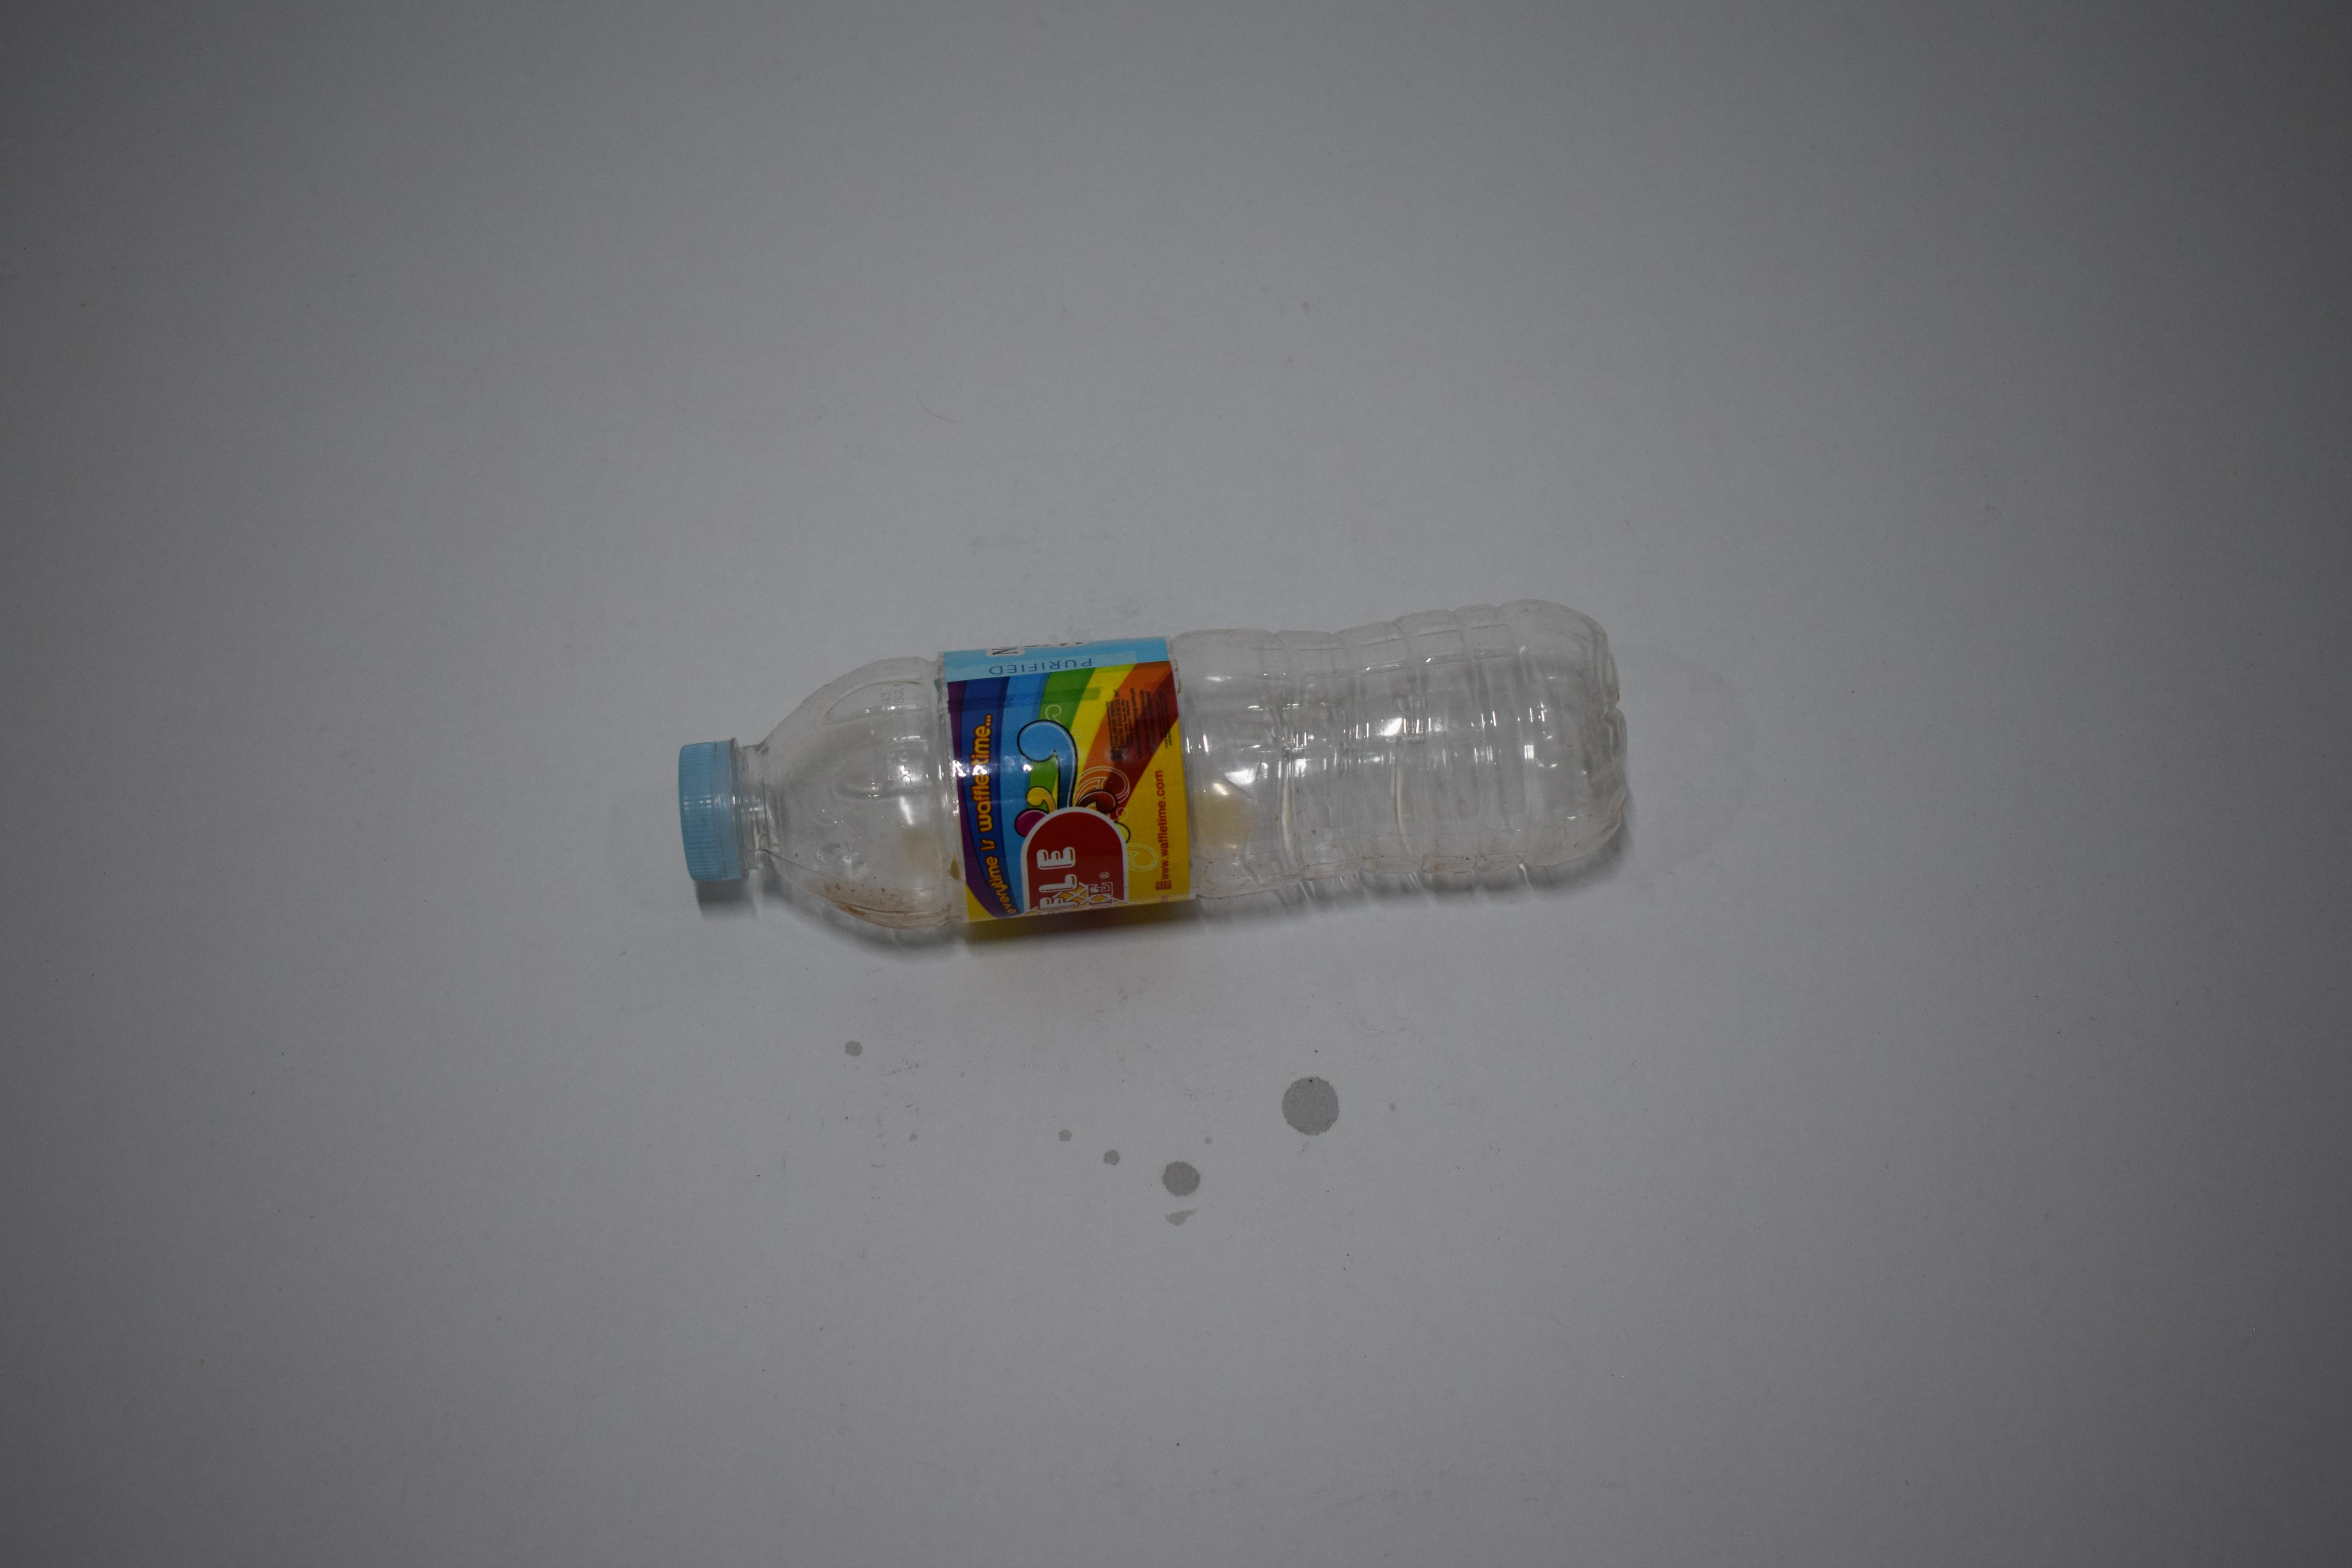bottle: (670, 585, 1643, 955)
